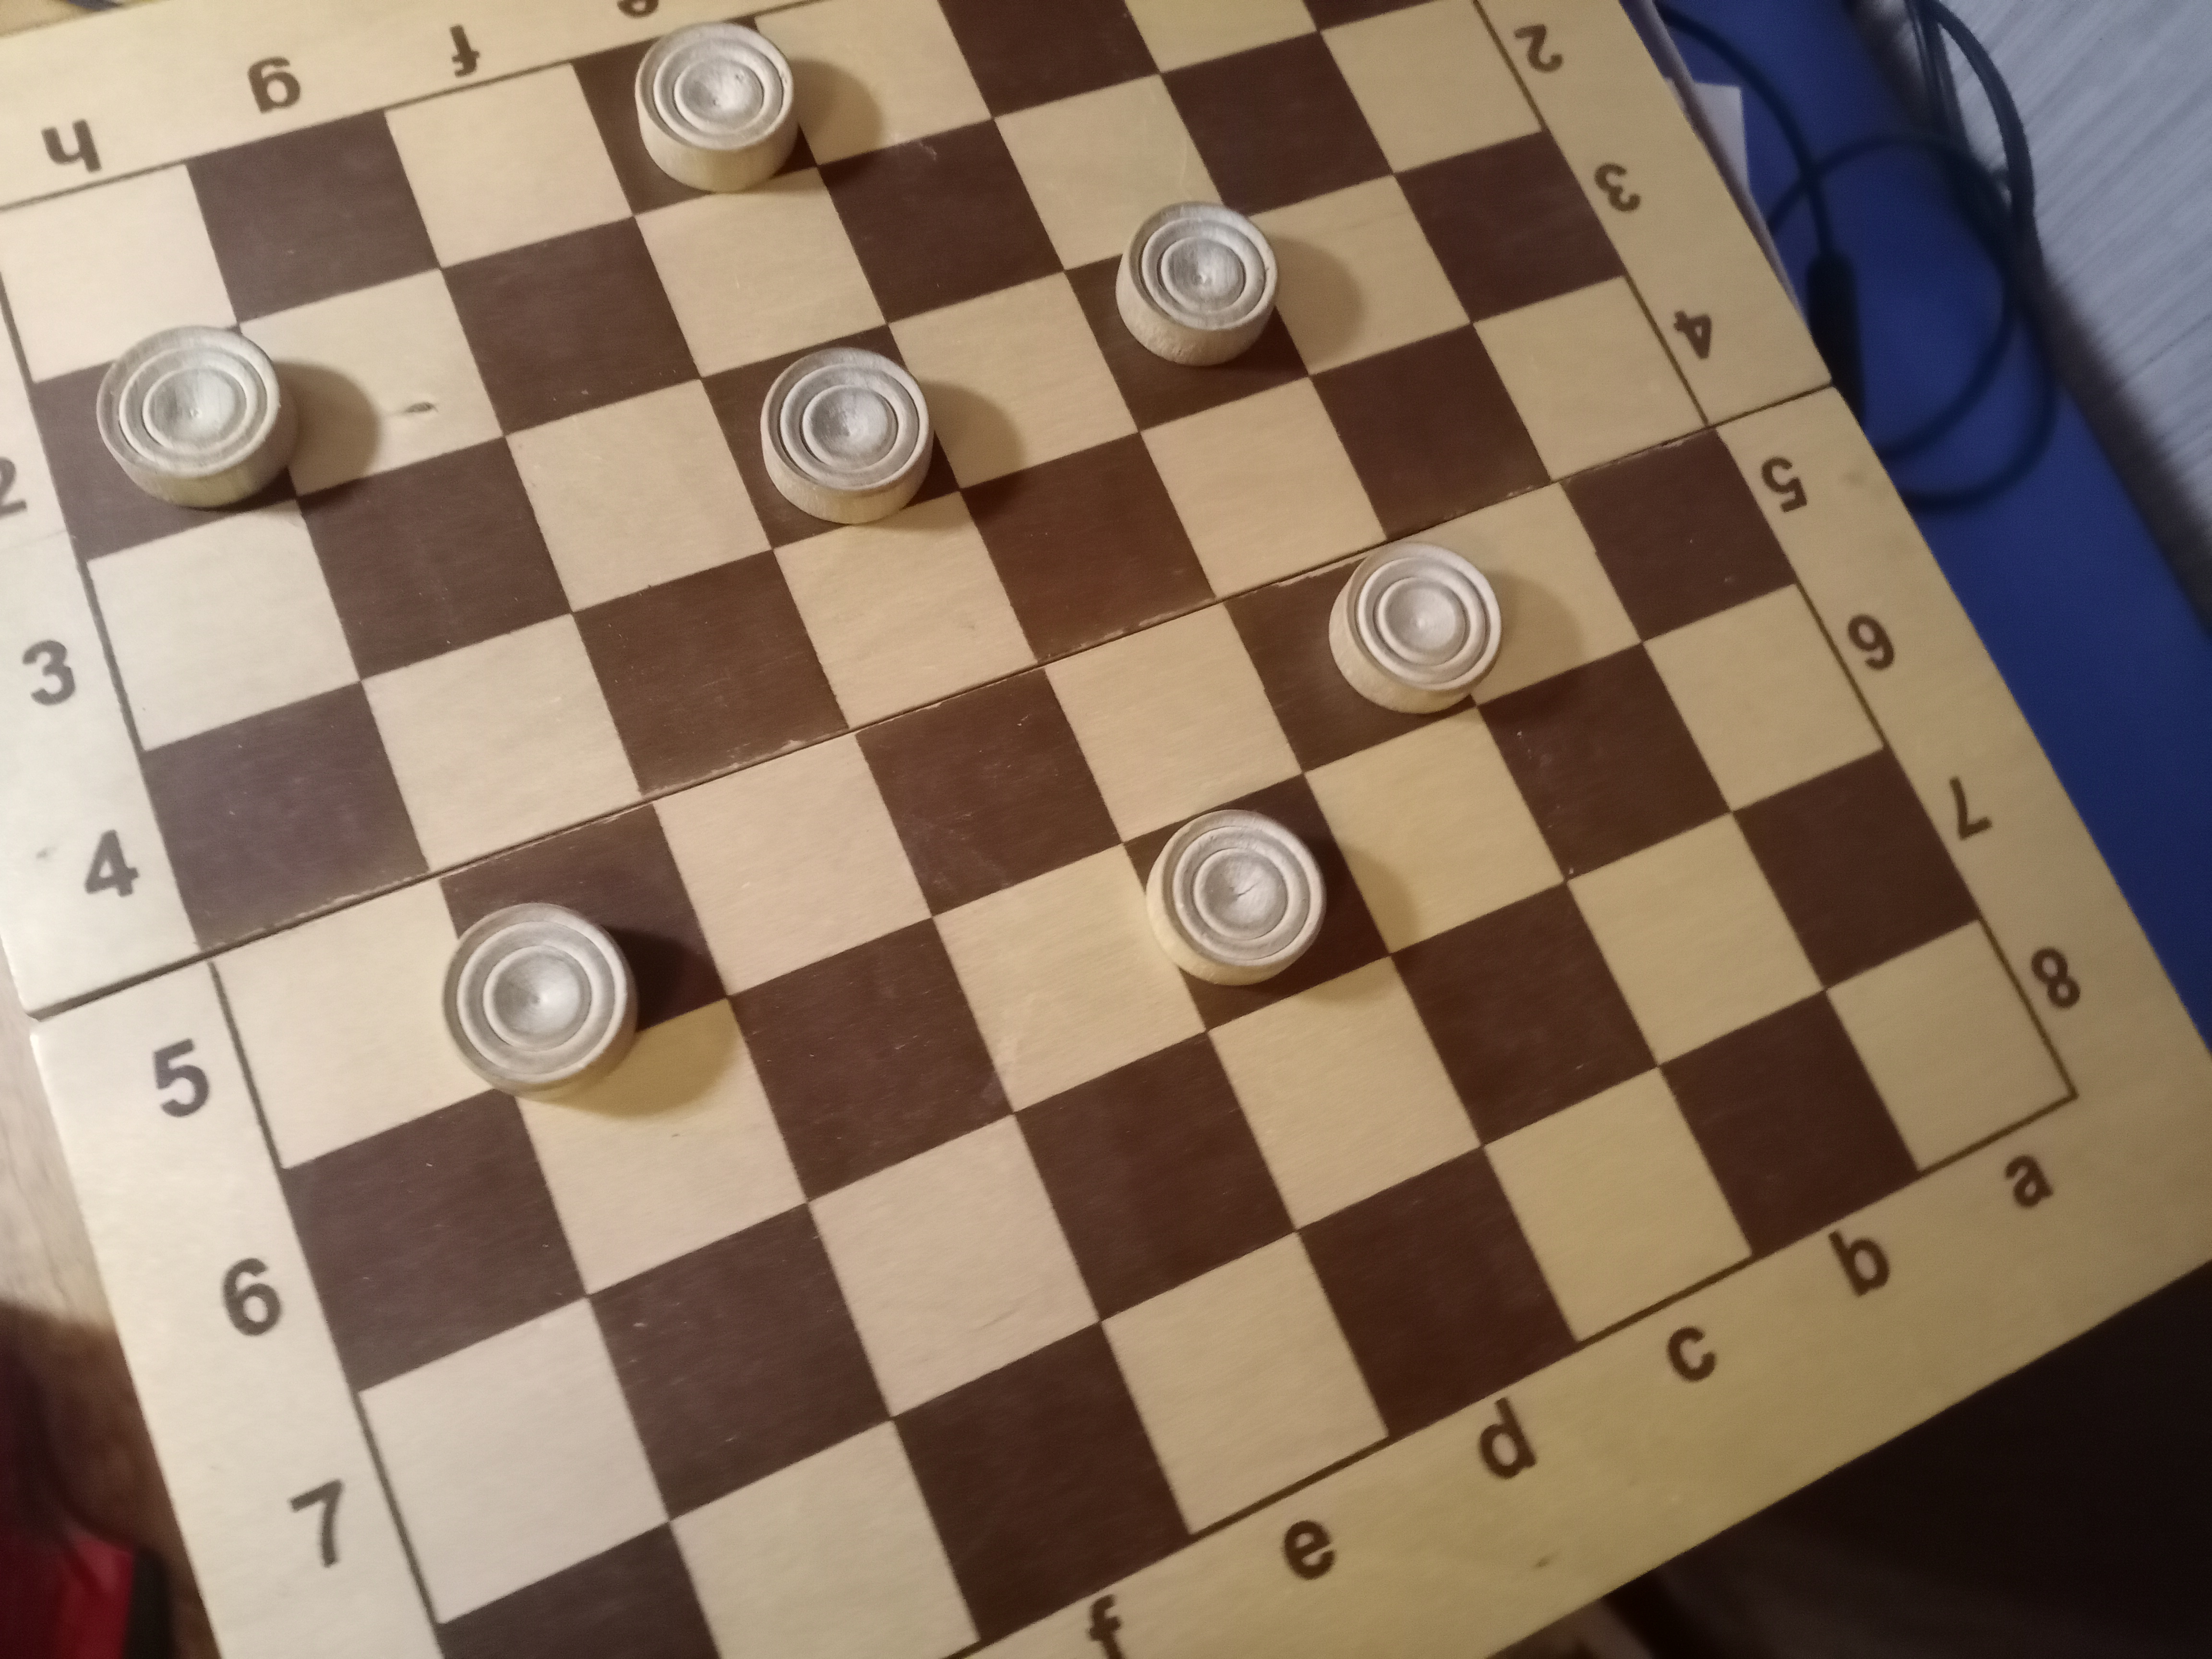White_Draught: (439, 803, 728, 1101), (1123, 774, 1392, 1030), (1224, 542, 1503, 772), (35, 322, 301, 563), (702, 324, 960, 552), (1064, 202, 1310, 432), (577, 17, 815, 216)
